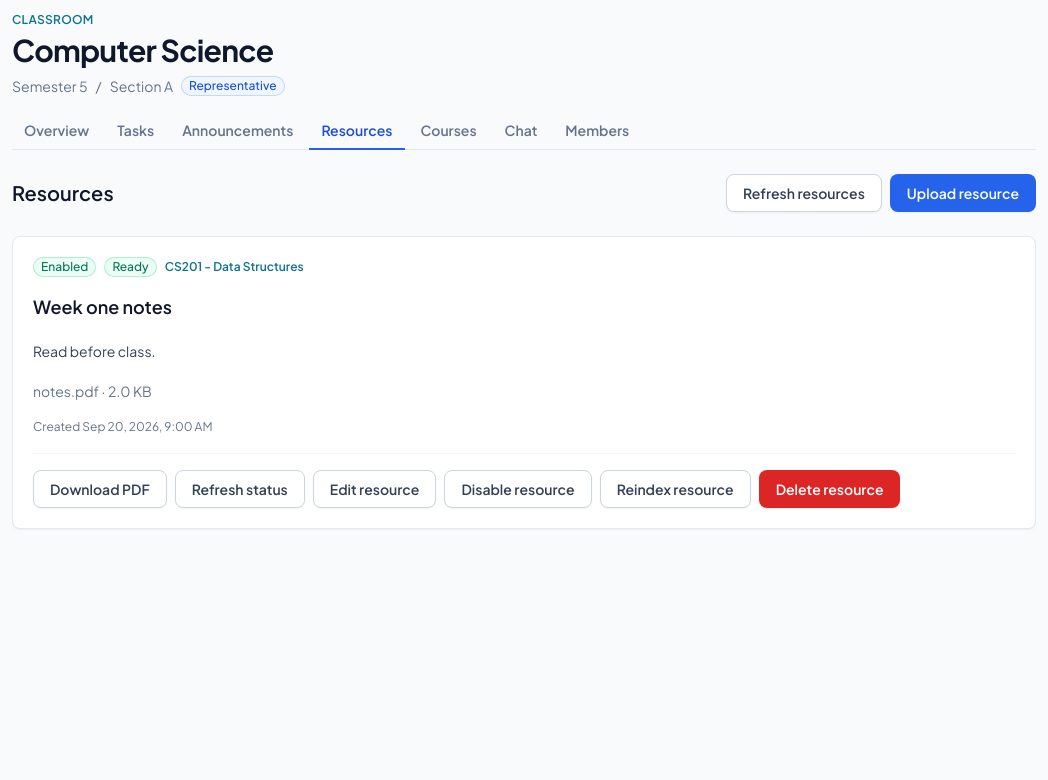
Test: class resources › disables and re-enables a resource using PATCH metadata while blocking downloads and indexing
Click the button "Disable resource".
click(518, 489)  # box [444, 470, 592, 508]
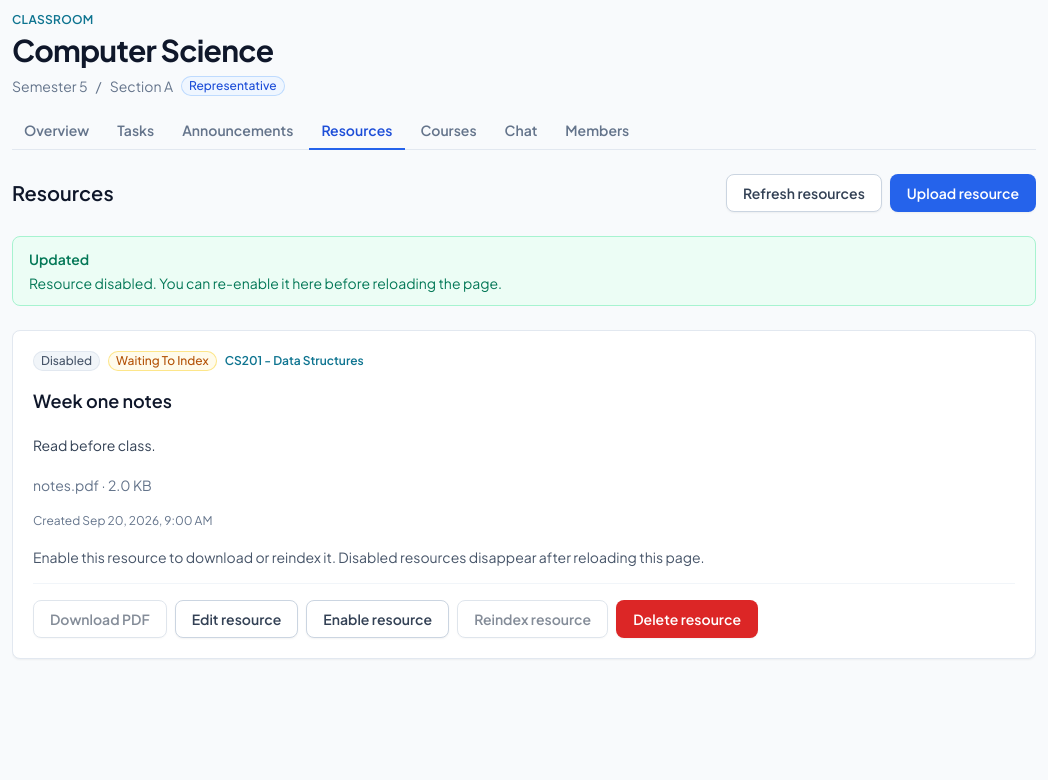
Expected: the text "Disabled" is shown, [33, 351, 100, 371]
Expected: the button "Download PDF" is disabled, [33, 600, 167, 638]
Expected: the button "Reindex resource" is disabled, [457, 600, 608, 638]
Click the button "Enable resource".
click(378, 619)  # box [306, 600, 449, 638]
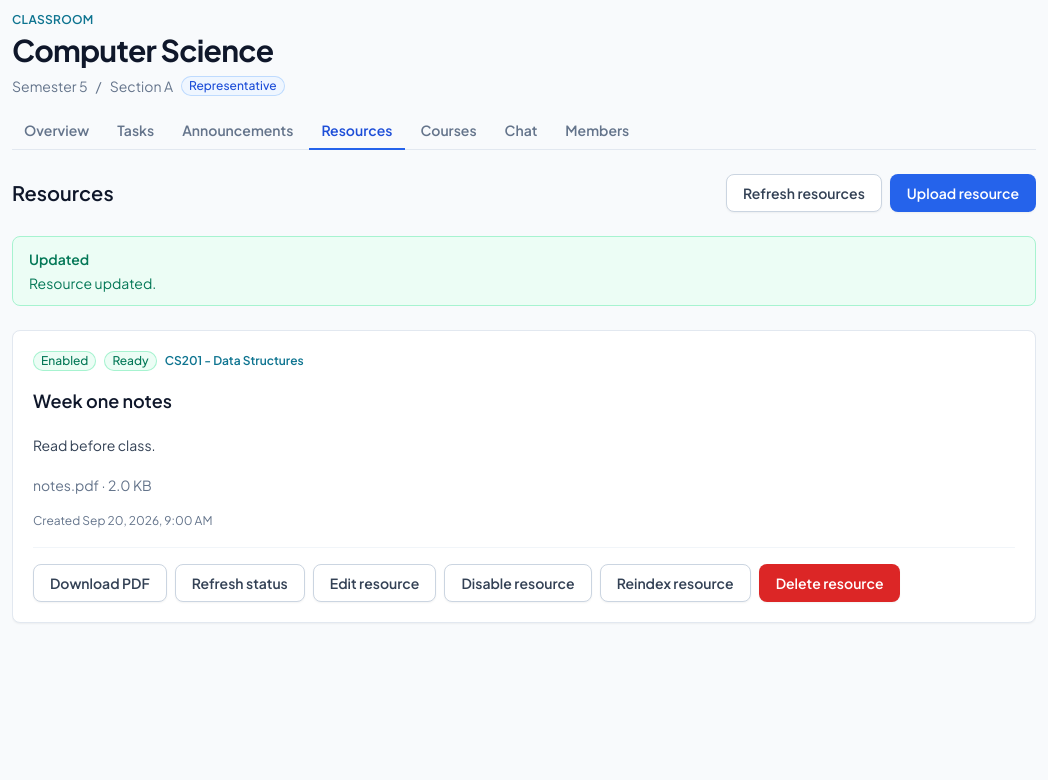
Expected: the button "Download PDF" is enabled, [33, 564, 167, 602]
